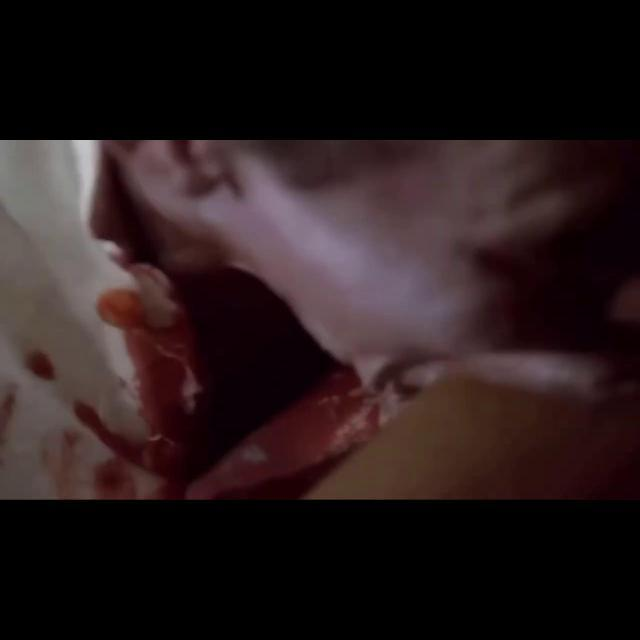blood: (24, 267, 381, 499)
